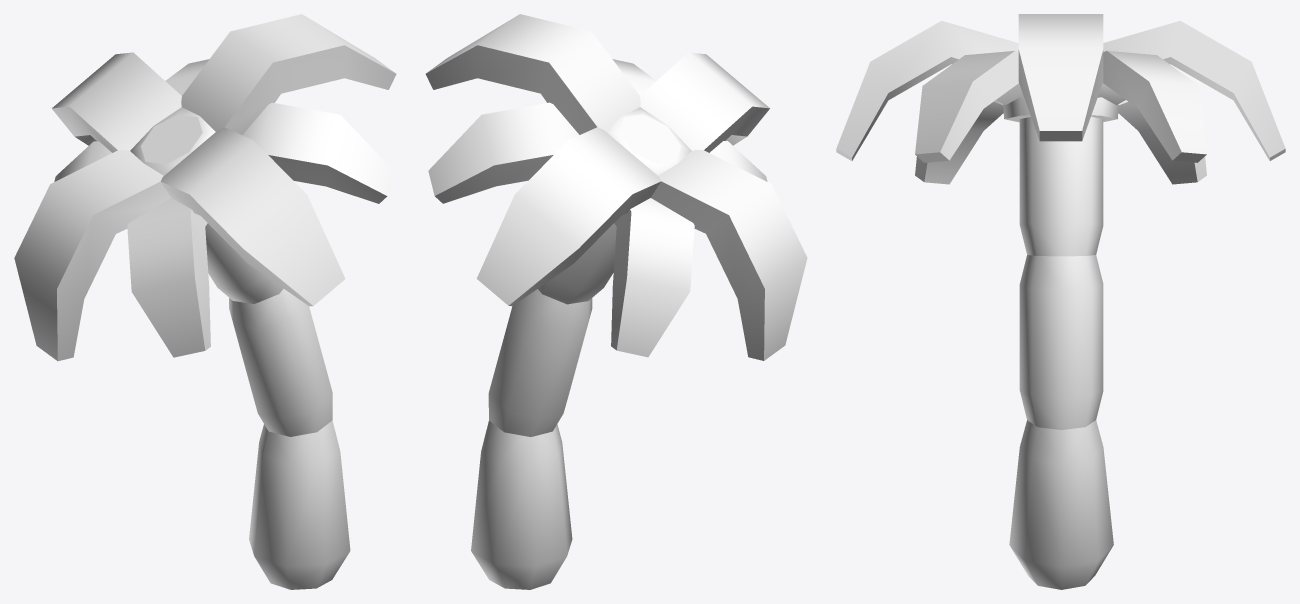
File: palm-detailed-bend.glb
The picture shows the model from 3 angles, left to right: view 1: azimuth 30°, elevation 25°; view 2: azimuth 150°, elevation 25°; view 3: azimuth 270°, elevation 25°; orthographic projection.
Visible parts, largest first — view 1: palm-detailed-bend; view 2: palm-detailed-bend; view 3: palm-detailed-bend.
Boxes of the visible parts, x1,y1,x2,y2 form: palm-detailed-bend: (14,14,396,589); palm-detailed-bend: (425,14,807,589); palm-detailed-bend: (836,14,1285,589).
Size of the model in its own units: 2.88 by 4.25 by 3.22.
1 material, 1 textured.
